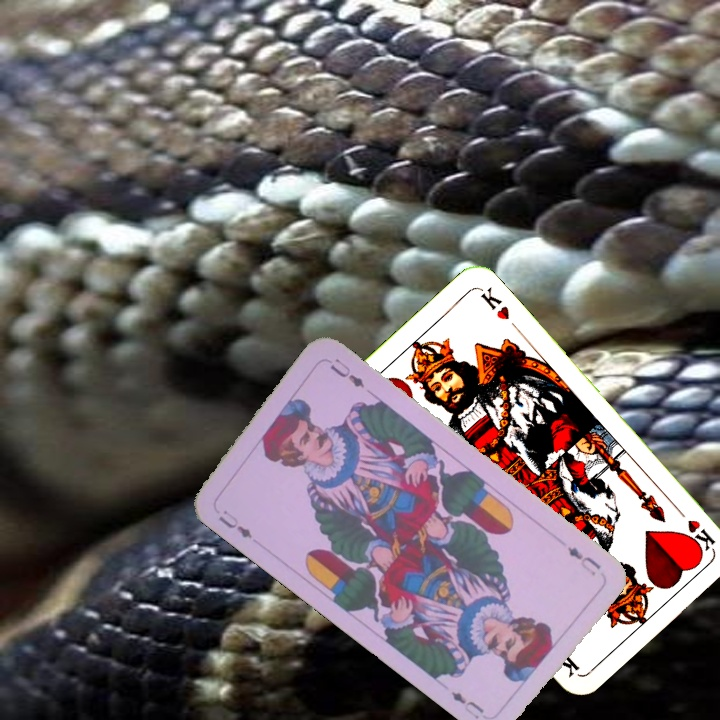EU: (563, 542, 604, 579), (214, 505, 256, 541)
HK: (671, 502, 718, 553)
